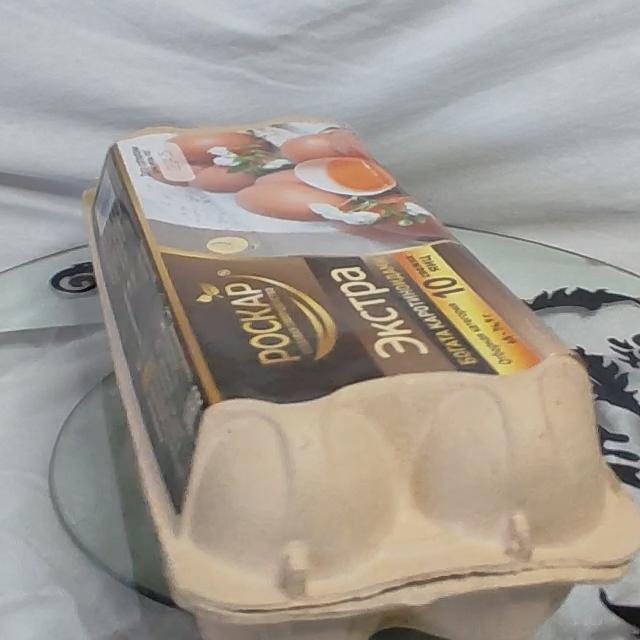egg: (49, 109, 633, 640)
